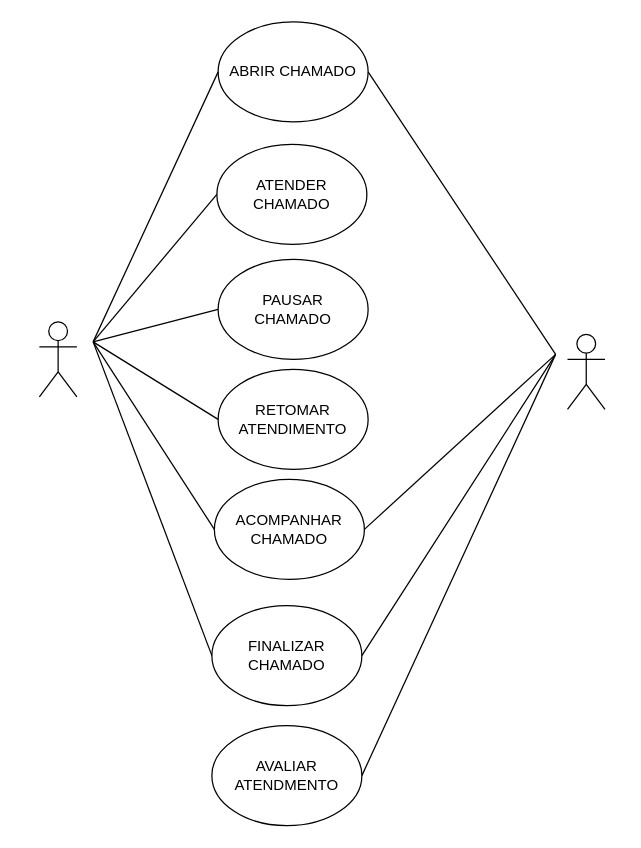
Image size: 641x848. Some labels were removed from this diagram. Here are the shapes that lost their labels. From the top down, the centre of each, then its label:
At (x=57, y=359): "SUPORTE INTERNO".
At (x=585, y=371): "USUÁRIO".
